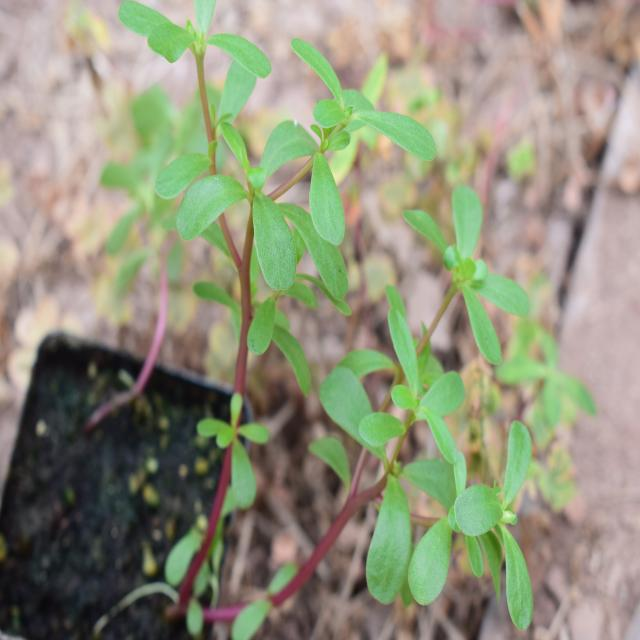purslane: (120, 10, 409, 503), (333, 224, 549, 610)
